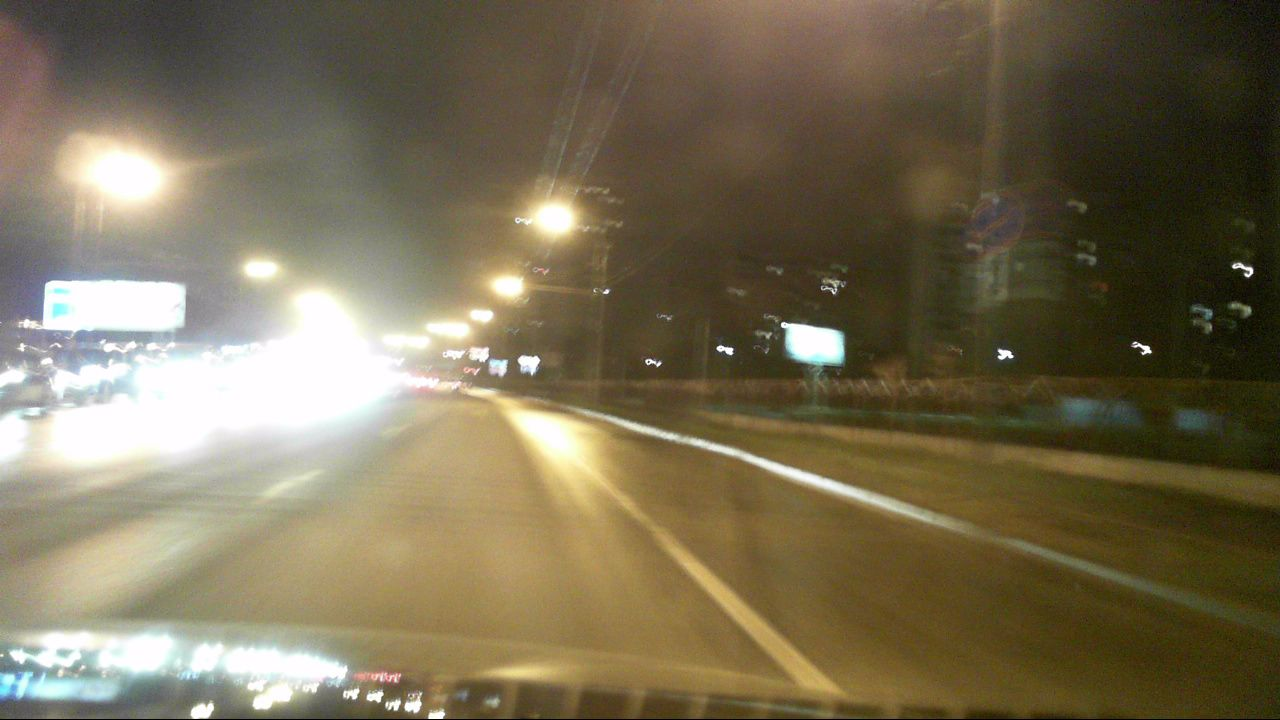No Parking: (972, 192, 1024, 249)
